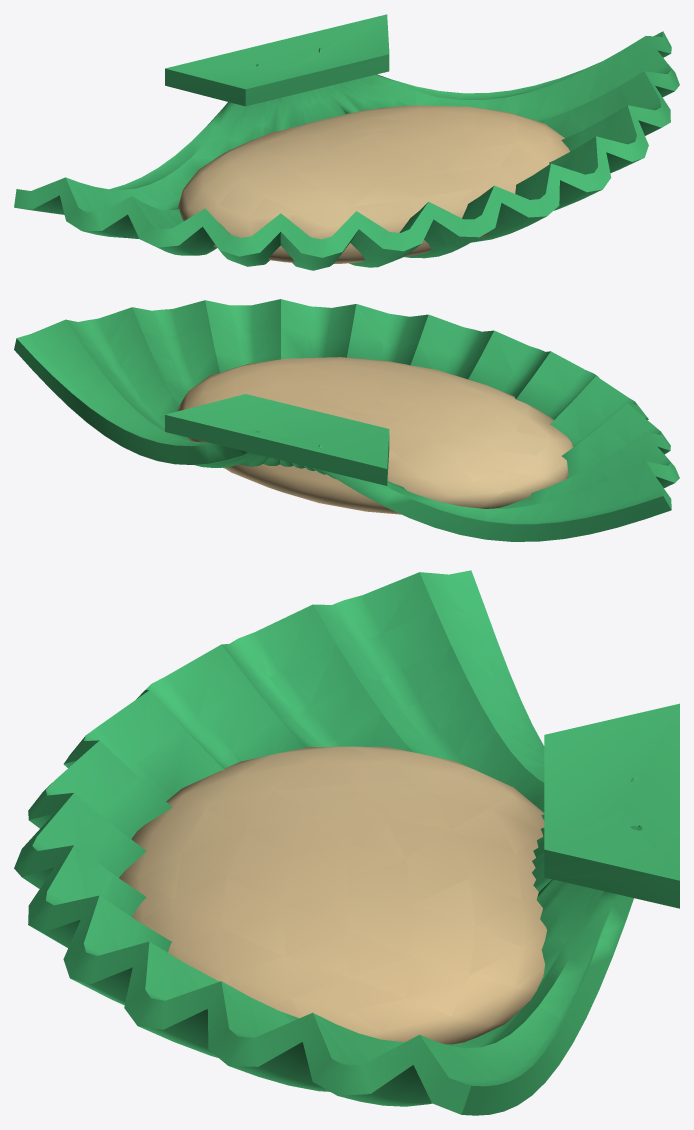
Rendered from shore_toy_mould_shell.glb.
3 renders of one model, top to bottom at view 1: azimuth 30°, elevation 25°; view 2: azimuth 150°, elevation 25°; view 3: azimuth 270°, elevation 25°, orthographic. The views are drawn at different scales.
Parts seen in each view (by area): view 1: shore_toy_mould_shell; view 2: shore_toy_mould_shell; view 3: shore_toy_mould_shell.
Part boxes in pixels (x1,y1,x2,y2): shore_toy_mould_shell: [14, 14, 679, 270]; shore_toy_mould_shell: [14, 299, 679, 541]; shore_toy_mould_shell: [14, 570, 679, 1115].
Size of the model in its own units: 5.63 by 0.9902 by 3.02.
